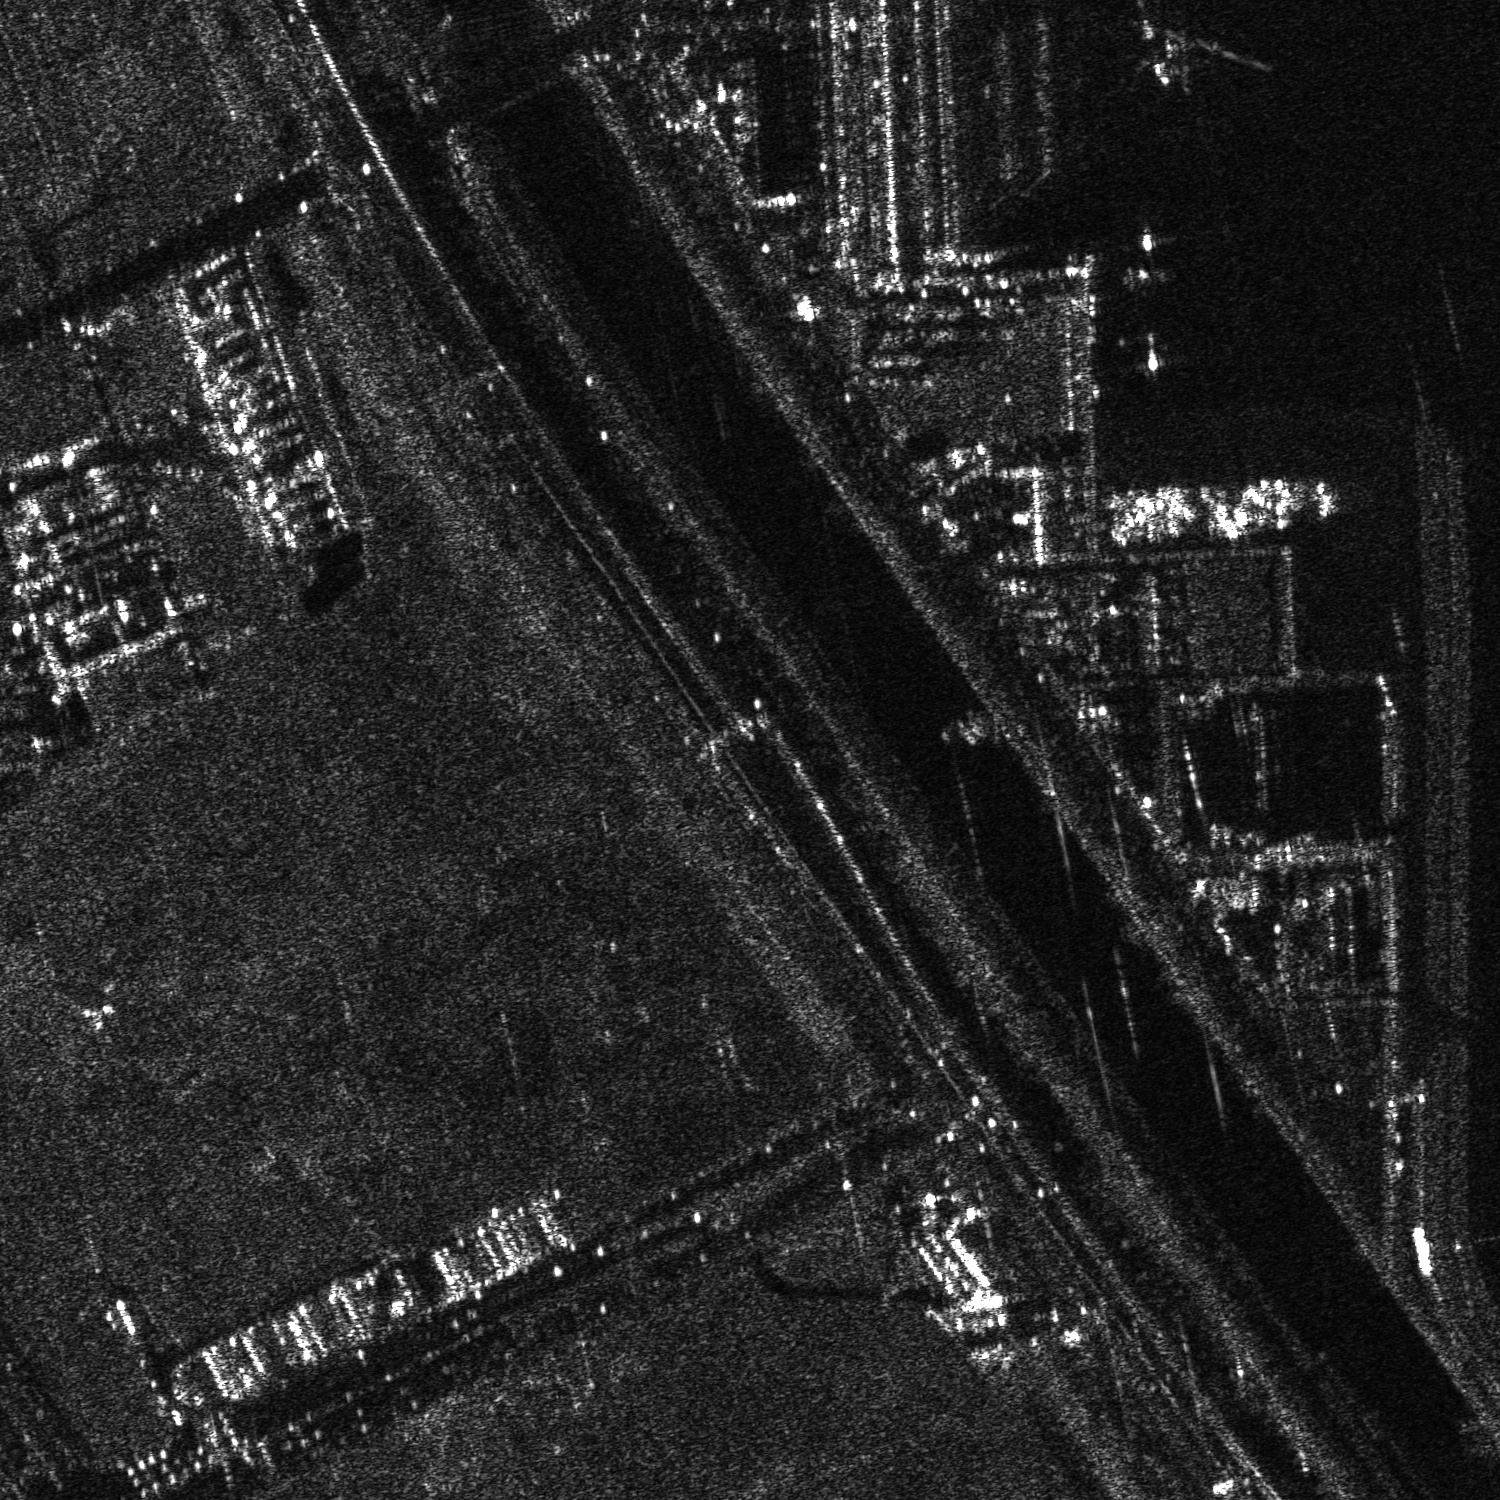A220: (1146, 21, 1240, 93)
